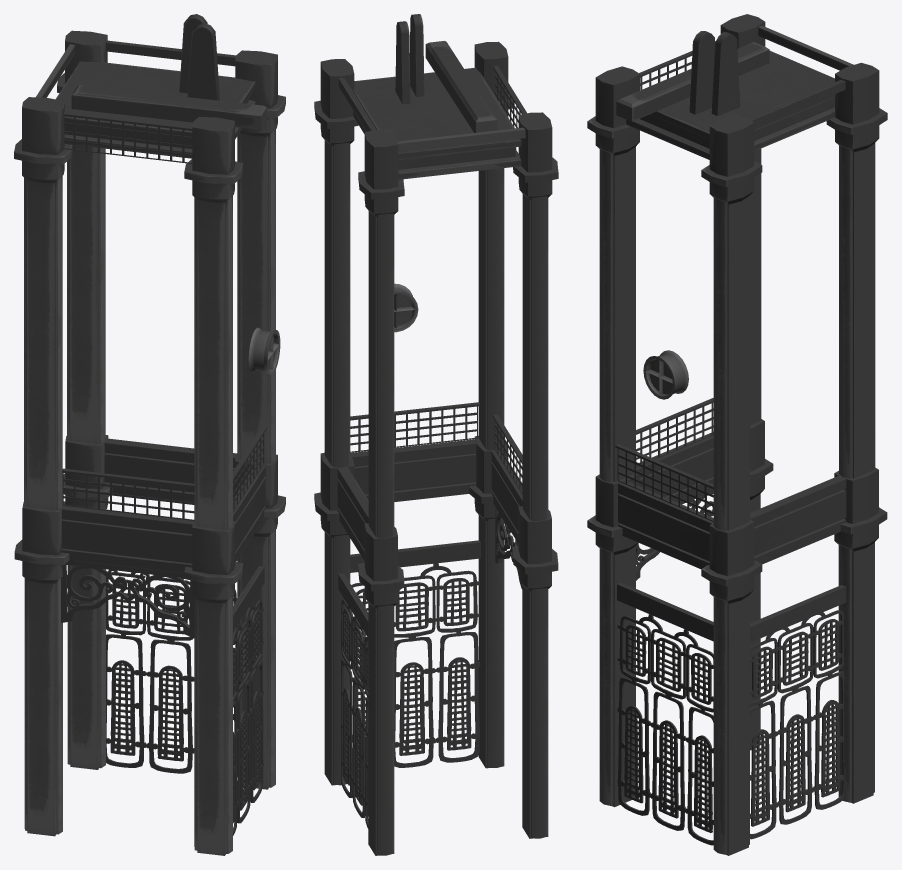
File: ElevatorFrame.fbx
3 views of the same model, side by side, from view 1: azimuth 30°, elevation 25°; view 2: azimuth 150°, elevation 25°; view 3: azimuth 270°, elevation 25° (orthographic). The views are drawn at different scales.
Visible parts, largest first — view 1: elevatorPart6, elevatorPart8, elevatorPart18, elevatorPart17, elevatorPart28, elevatorPart2, elevatorPart4, elevatorPart12, elevatorPart10, elevatorPart24, elevatorPart15, elevatorPart21 (+21 smaller); view 2: elevatorPart15, elevatorPart12, elevatorPart18, elevatorPart17, elevatorPart8, elevatorPart6, elevatorPart4, elevatorPart24, elevatorPart2, elevatorPart11, elevatorPart28, elevatorPart21 (+22 smaller); view 3: elevatorPart15, elevatorPart28, elevatorPart17, elevatorPart18, elevatorPart6, elevatorPart21, elevatorPart24, elevatorPart12, elevatorPart2, elevatorPart20, elevatorPart11, elevatorPart16 (+22 smaller).
Part boxes in pixels (bbox=[...]): elevatorPart6: bbox=[194, 196, 232, 529]; elevatorPart8: bbox=[24, 176, 62, 510]; elevatorPart18: bbox=[67, 145, 105, 443]; elevatorPart17: bbox=[237, 129, 275, 463]; elevatorPart28: bbox=[106, 572, 237, 776]; elevatorPart2: bbox=[194, 596, 232, 855]; elevatorPart4: bbox=[24, 578, 62, 836]; elevatorPart12: bbox=[55, 61, 255, 158]; elevatorPart10: bbox=[60, 506, 194, 573]; elevatorPart24: bbox=[67, 565, 105, 769]; elevatorPart15: bbox=[233, 600, 263, 835]; elevatorPart21: bbox=[237, 529, 275, 789]; elevatorPart15: bbox=[350, 563, 480, 767]; elevatorPart12: bbox=[353, 67, 521, 179]; elevatorPart18: bbox=[368, 211, 394, 538]; elevatorPart17: bbox=[324, 140, 350, 467]; elevatorPart8: bbox=[522, 194, 548, 520]; elevatorPart6: bbox=[478, 168, 504, 450]; elevatorPart4: bbox=[522, 585, 548, 838]; elevatorPart24: bbox=[368, 602, 394, 855]; elevatorPart2: bbox=[478, 515, 504, 768]; elevatorPart11: bbox=[350, 439, 476, 501]; elevatorPart28: bbox=[341, 599, 368, 828]; elevatorPart21: bbox=[324, 532, 350, 785]; elevatorPart15: bbox=[617, 614, 713, 845]; elevatorPart28: bbox=[750, 610, 843, 839]; elevatorPart17: bbox=[713, 195, 749, 531]; elevatorPart18: bbox=[839, 143, 875, 478]; elevatorPart6: bbox=[599, 147, 635, 482]; elevatorPart21: bbox=[713, 595, 749, 855]; elevatorPart24: bbox=[838, 542, 874, 803]; elevatorPart12: bbox=[626, 51, 835, 159]; elevatorPart2: bbox=[599, 546, 635, 807]; elevatorPart20: bbox=[750, 475, 846, 564]; elevatorPart11: bbox=[618, 481, 713, 569]; elevatorPart16: bbox=[701, 115, 762, 204].
Size of the model in its own units: 4.87 by 14.05 by 4.88.
